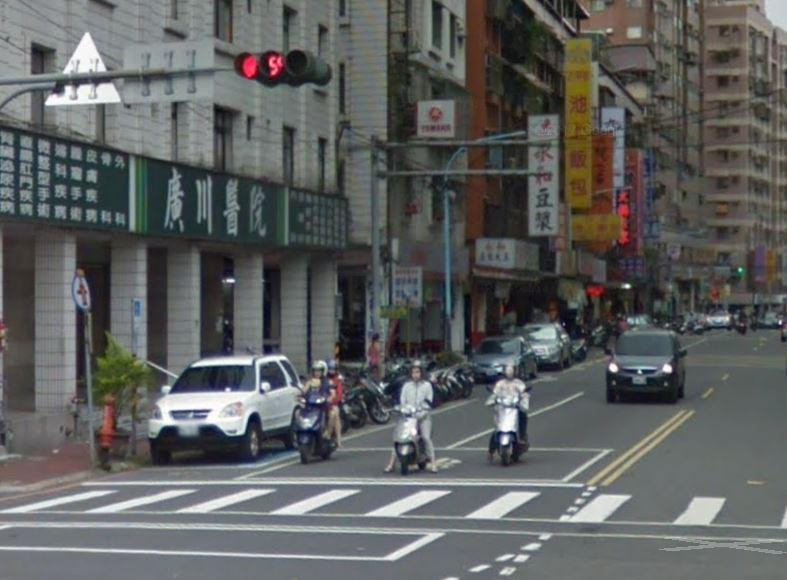red_traffic_light: (231, 49, 314, 80)
